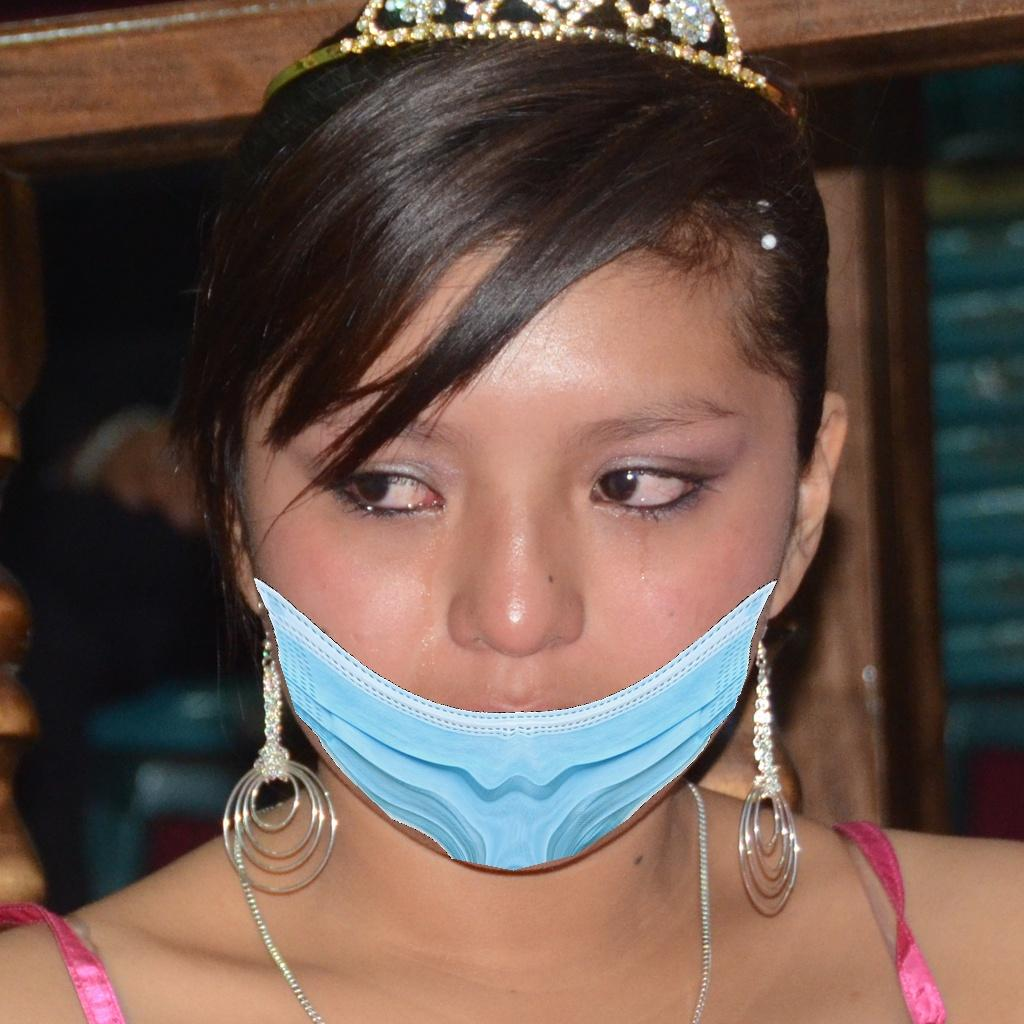Máscara Incorreta: (258, 247, 785, 861)
